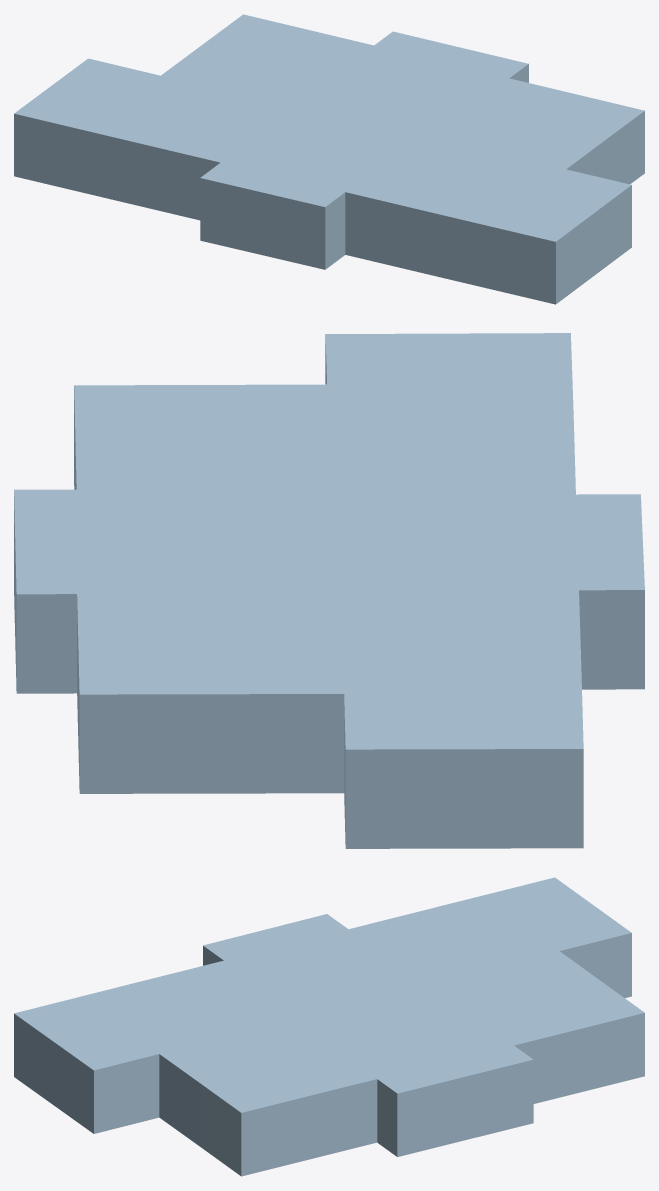
File: osm_way_224896131.glb
3 renders of one model, top to bottom at view 1: azimuth 30°, elevation 25°; view 2: azimuth 150°, elevation 25°; view 3: azimuth 270°, elevation 25°, orthographic. The views are drawn at different scales.
Visible parts, largest first — view 1: osm_way_224896131; view 2: osm_way_224896131; view 3: osm_way_224896131.
Part boxes in pixels (<box>): osm_way_224896131: <box>14,14,644,304</box>; osm_way_224896131: <box>14,333,644,848</box>; osm_way_224896131: <box>14,877,644,1176</box>.
Bounding box in the file's own units: 100 × 12.6 × 113.
